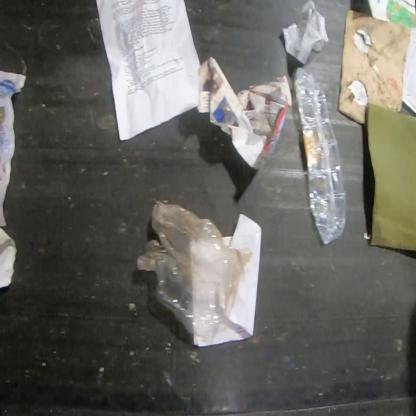cardboard: (338, 8, 411, 130), (367, 103, 415, 252)
rigid_plastic: (293, 66, 348, 246)
soft_plastic: (137, 202, 253, 336)
